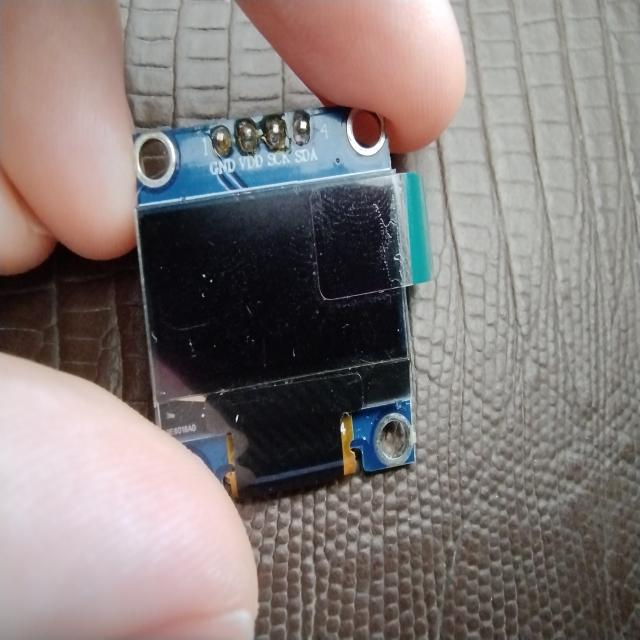oled: (128, 97, 432, 490)
